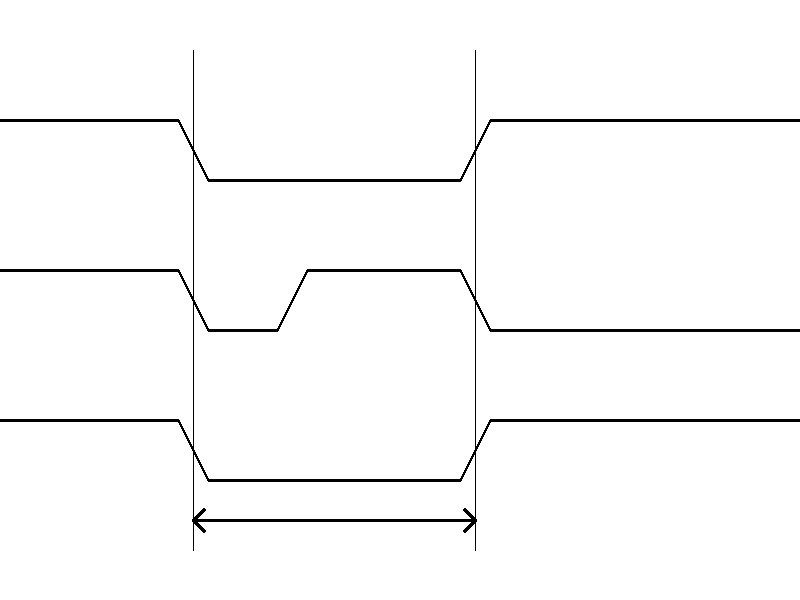double_arrow: (193, 505, 475, 535)
